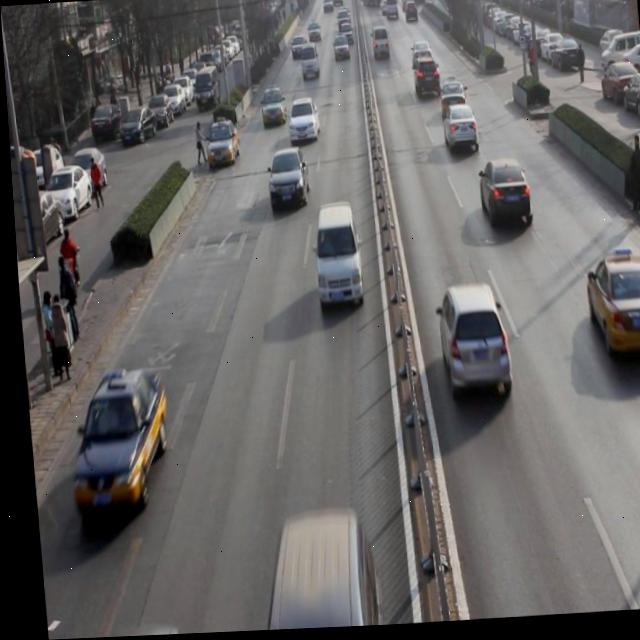car: (59, 373, 166, 516), (431, 285, 509, 409), (577, 251, 640, 367), (474, 161, 529, 232), (264, 153, 308, 212), (201, 119, 239, 172), (439, 106, 475, 156), (285, 100, 319, 146), (409, 57, 441, 102), (436, 78, 465, 123), (258, 88, 285, 127)
truck: (256, 517, 376, 632), (309, 204, 360, 312), (297, 44, 318, 83)
